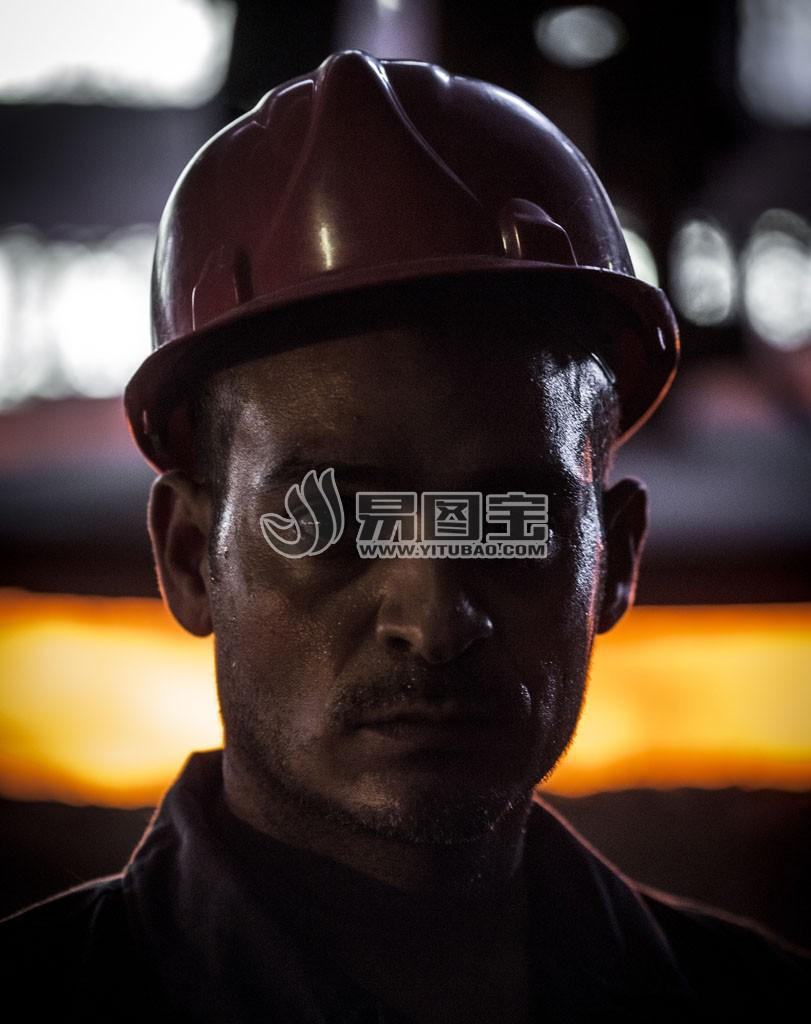helmet: (119, 18, 698, 625)
